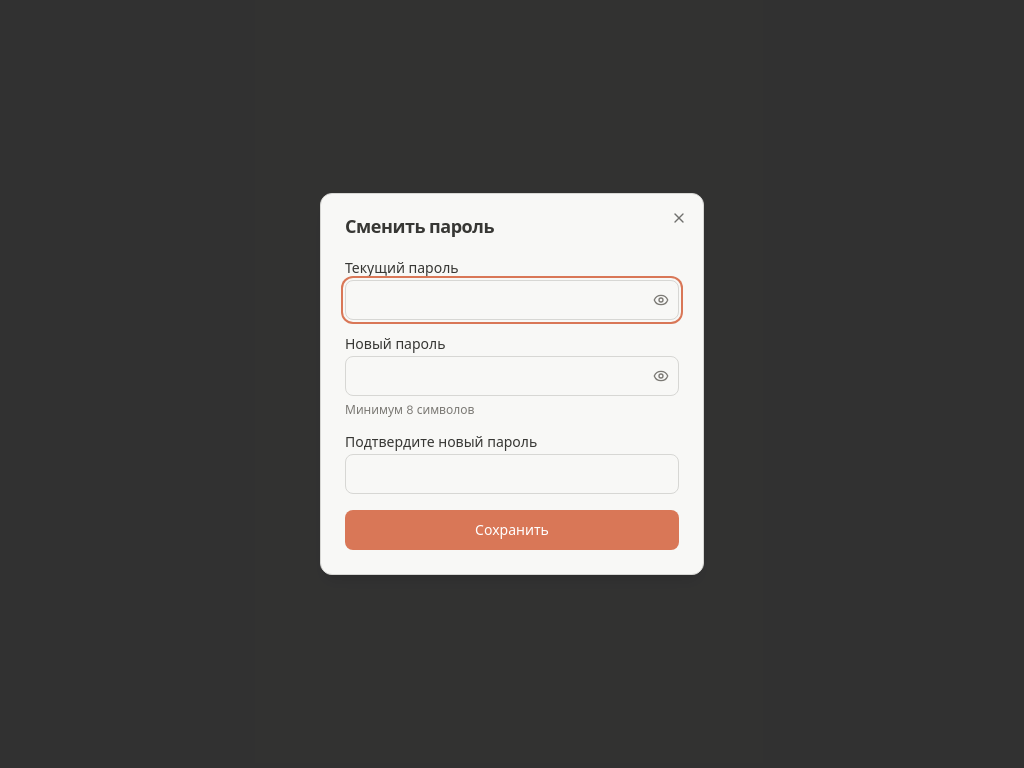
Scenario: ChangePasswordDialog › успешно меняет пароль и показывает сообщение
The image size is (1024, 768).
Step 1. Type "oldpass123" into the password field labelled "Текущий пароль" → [512, 300], box [345,280,679,320]
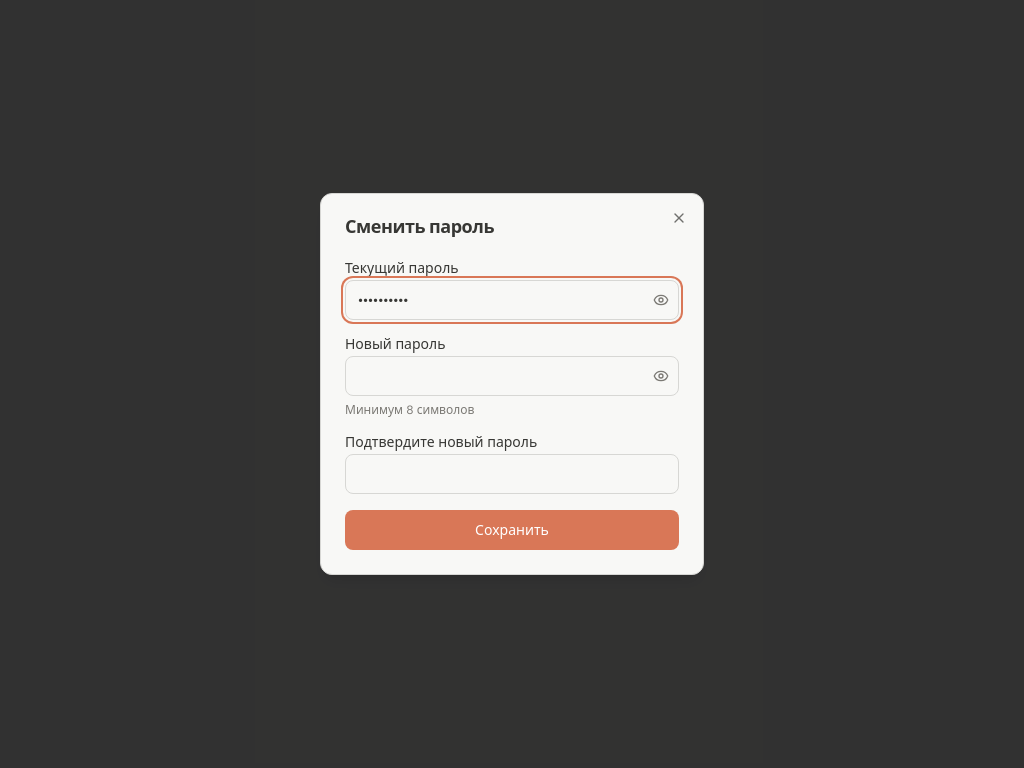
Step 2. Type "newpass123" into the password field labelled "Новый пароль" → [512, 376], box [345,356,679,396]
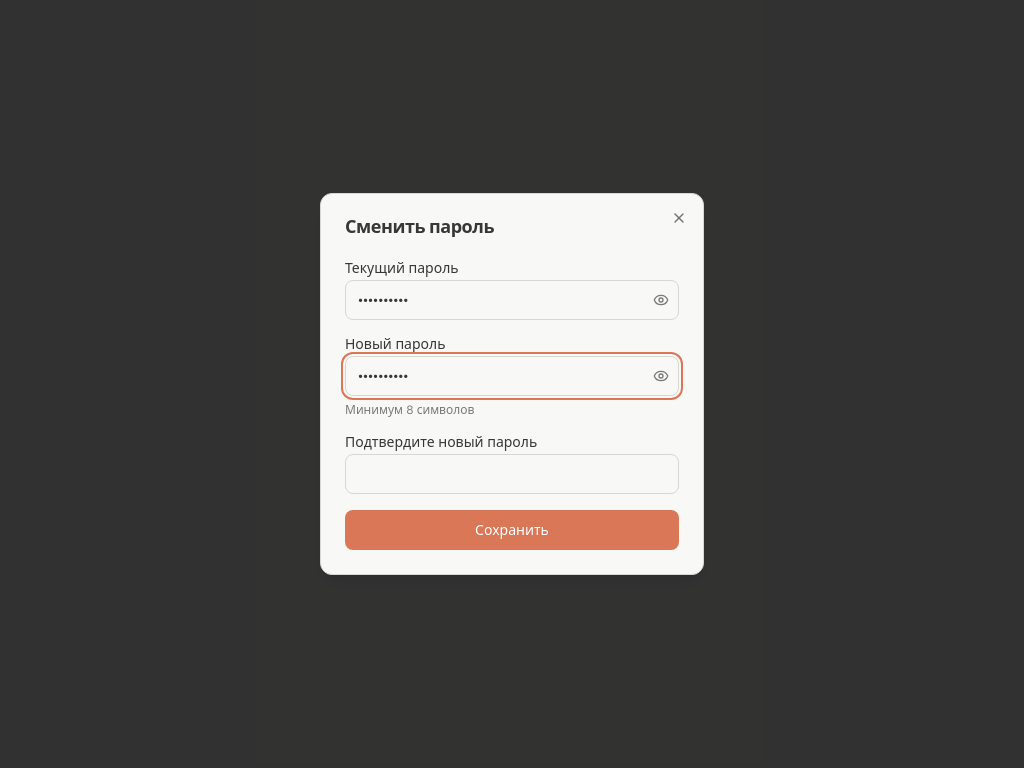
Step 3. Type "newpass123" into the password field labelled "Подтвердите новый пароль" → [512, 474], box [345,454,679,494]
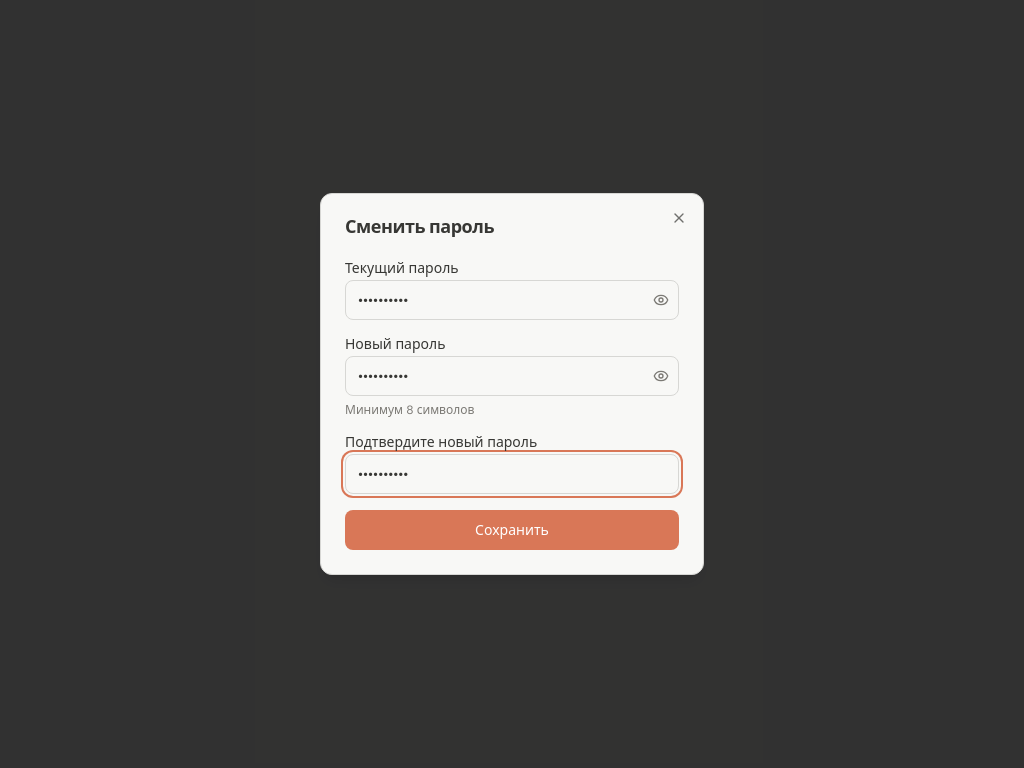
Step 4. Click the button "Сохранить" → [512, 530], box [345,510,679,550]
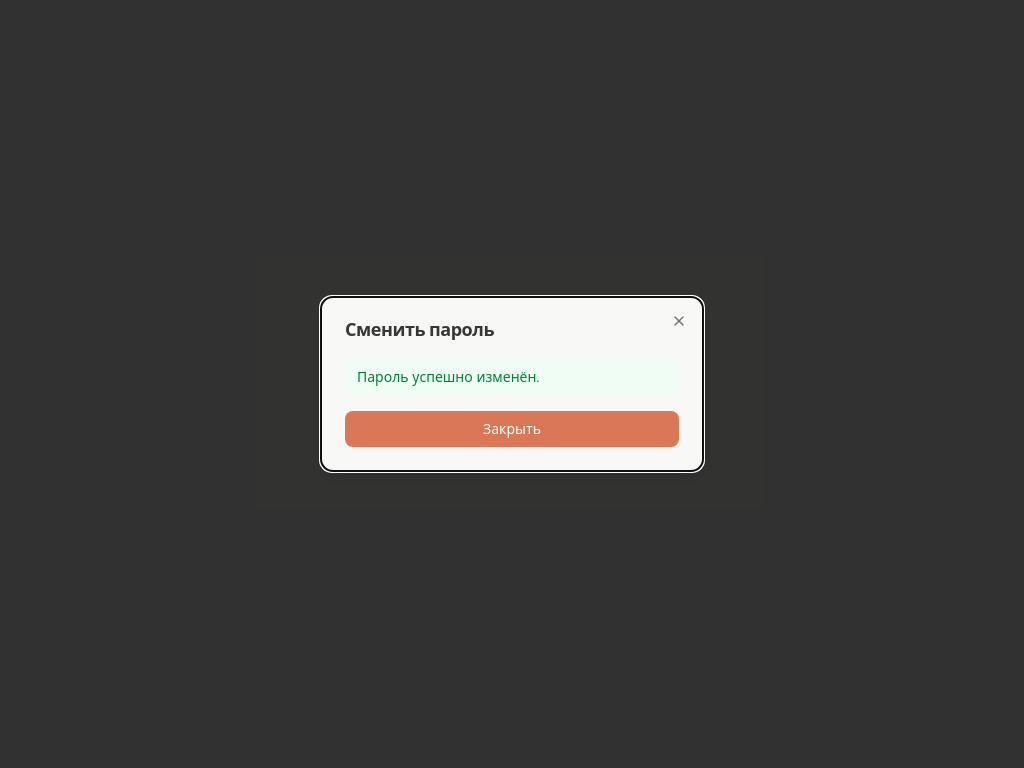
Check: the text "Пароль успешно изменён." is shown, box [345,359,679,395]
Check: the button "Закрыть" is shown, box [345,411,679,447]
